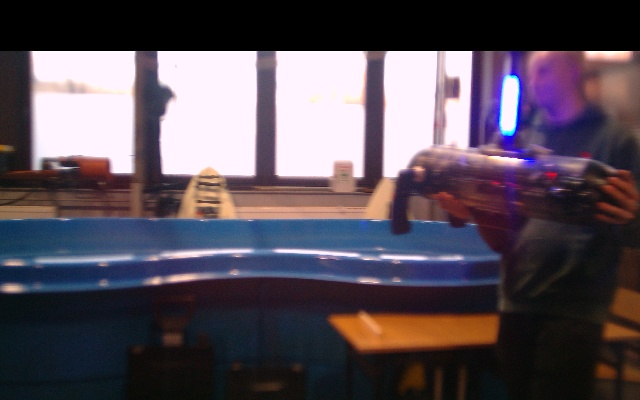blue: (500, 75, 520, 138)
